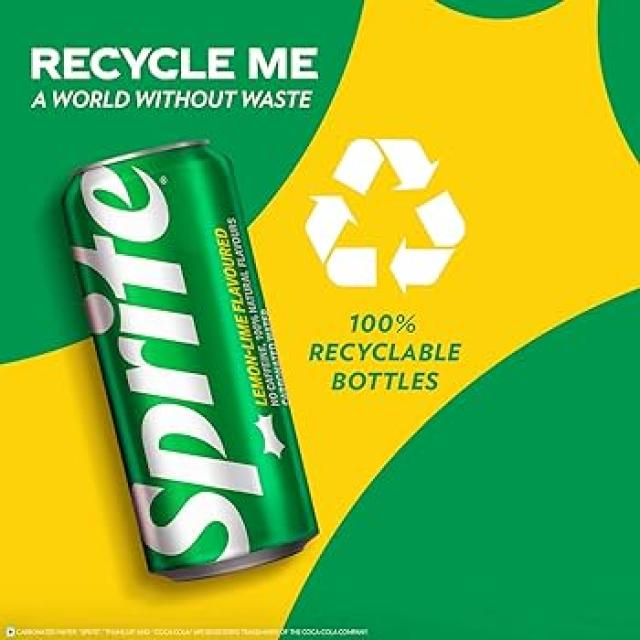sprite: (51, 136, 335, 603)
